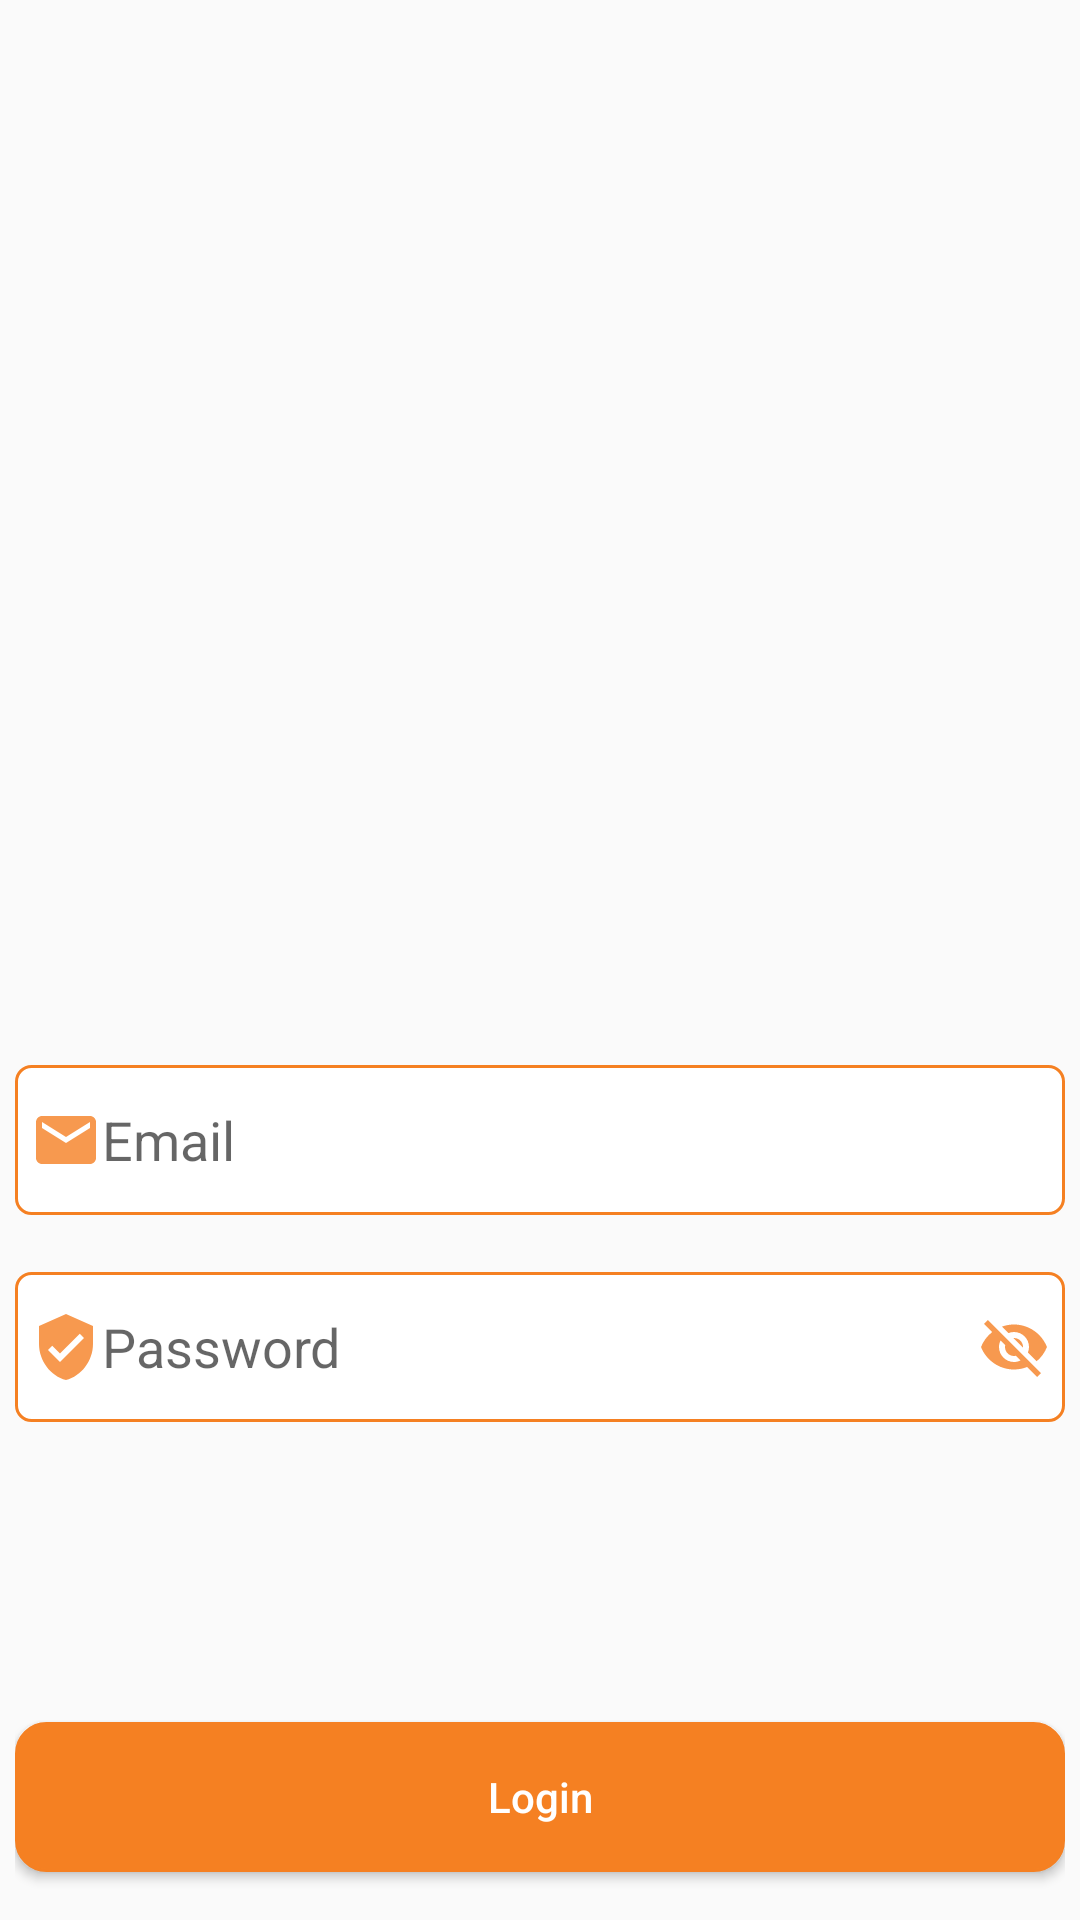

Icon click points for this 1080px x 1920px phone screenshot, format (x,y):
hide: (1014,1348)
